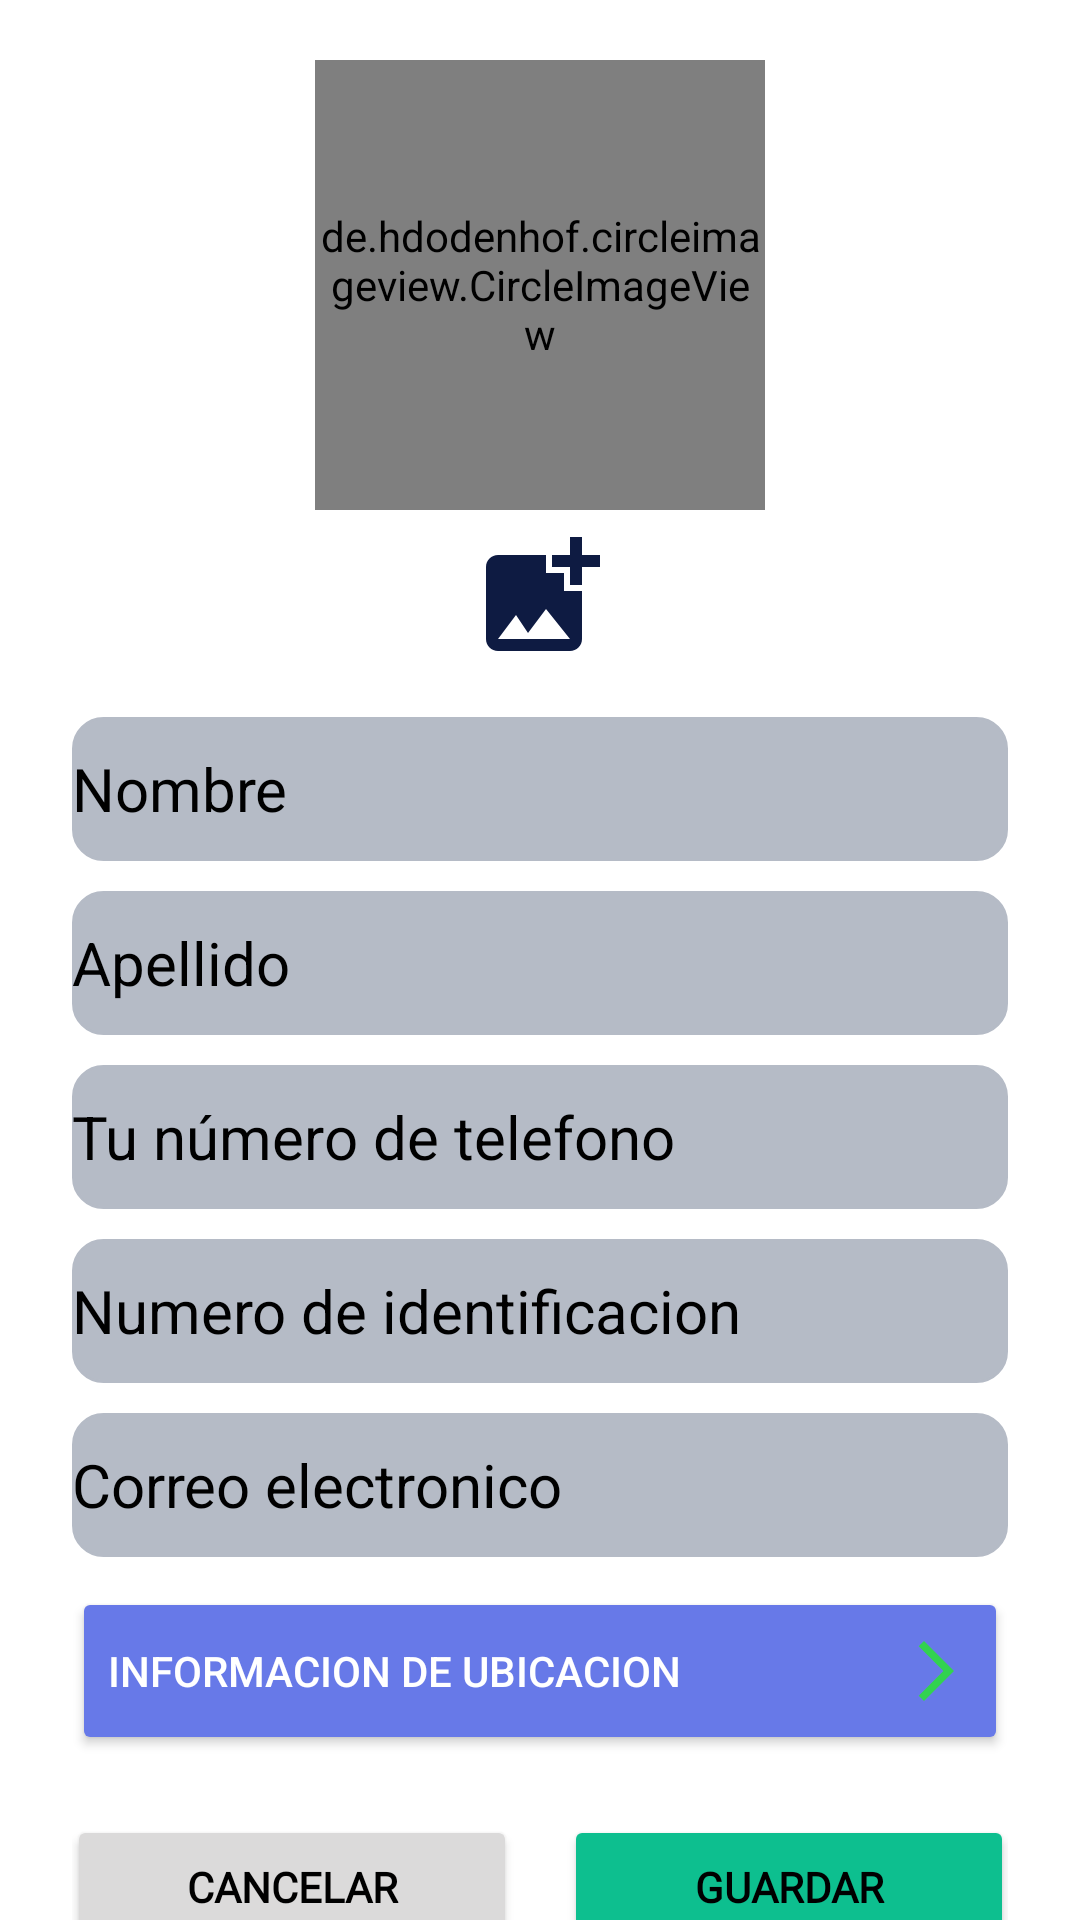

Where icons sit on this 1080 × 1920 app screen, as bbox=[x1, y1, x2, y2]:
Cambiar foto de perfil: bbox=[486, 537, 600, 651]
